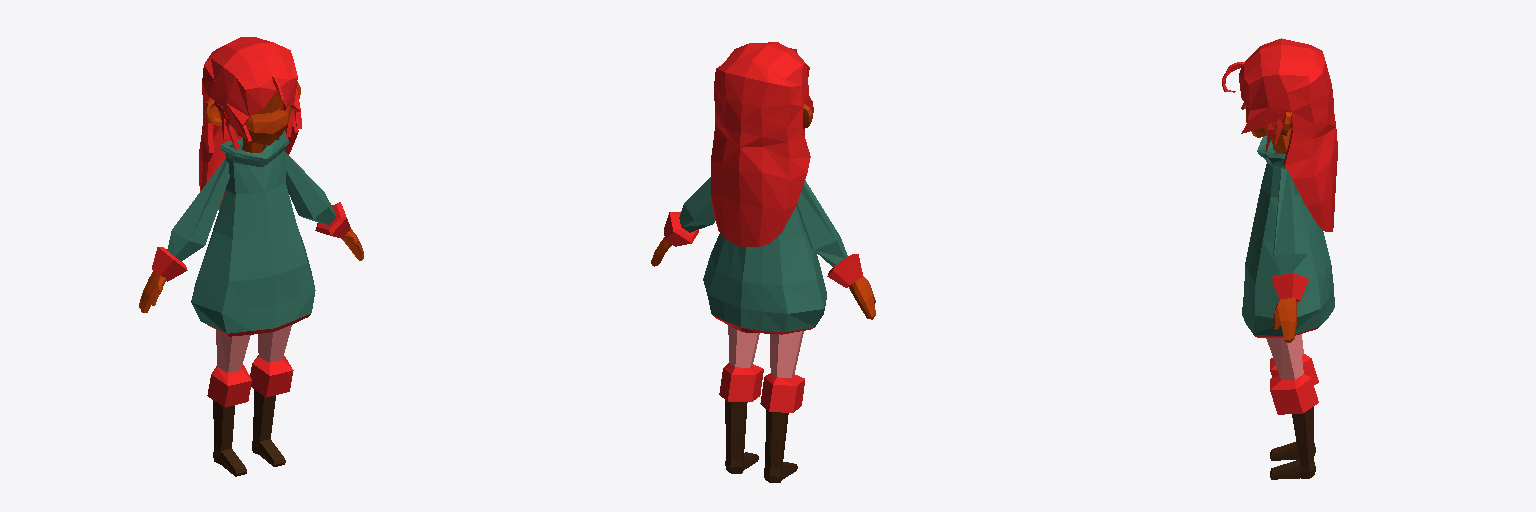
File: lowpolygirl_pink_version.obj
3 renders of one model, left to right at view 1: azimuth 30°, elevation 25°; view 2: azimuth 150°, elevation 25°; view 3: azimuth 270°, elevation 25°, orthographic.
Parts seen in each view (by area): view 1: body, hair, legs, arms, head, hands; view 2: hair, body, legs, arms, hands; view 3: hair, body, legs, arms, hands.
Boxes of the visible parts, <box> form: body: <box>191,130,315,336</box>; hair: <box>199,37,301,209</box>; legs: <box>207,325,293,476</box>; arms: <box>152,152,350,281</box>; head: <box>235,92,291,145</box>; hands: <box>139,229,363,312</box>; hair: <box>711,42,813,246</box>; body: <box>703,206,826,334</box>; legs: <box>719,325,804,482</box>; arms: <box>664,177,862,287</box>; hands: <box>651,237,875,319</box>; hair: <box>1239,38,1337,231</box>; body: <box>1242,136,1334,337</box>; legs: <box>1266,334,1318,479</box>; arms: <box>1272,168,1308,301</box>; hands: <box>1274,298,1296,342</box>.
Size of the model in its own units: 2.08 by 3.81 by 0.9492.